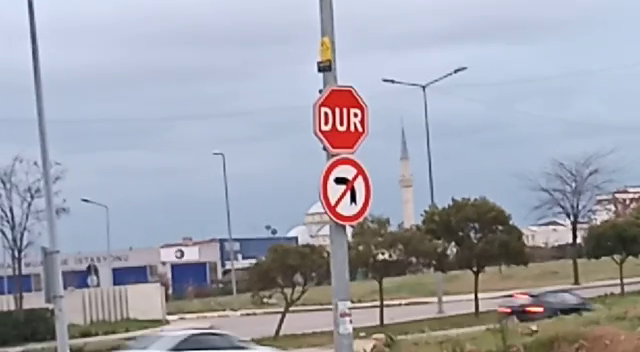no_left: (316, 154, 375, 228)
stop: (311, 83, 372, 158)
